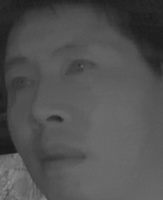eye: (63, 57, 100, 79), (5, 73, 34, 93)
mouth: (32, 143, 90, 178)
